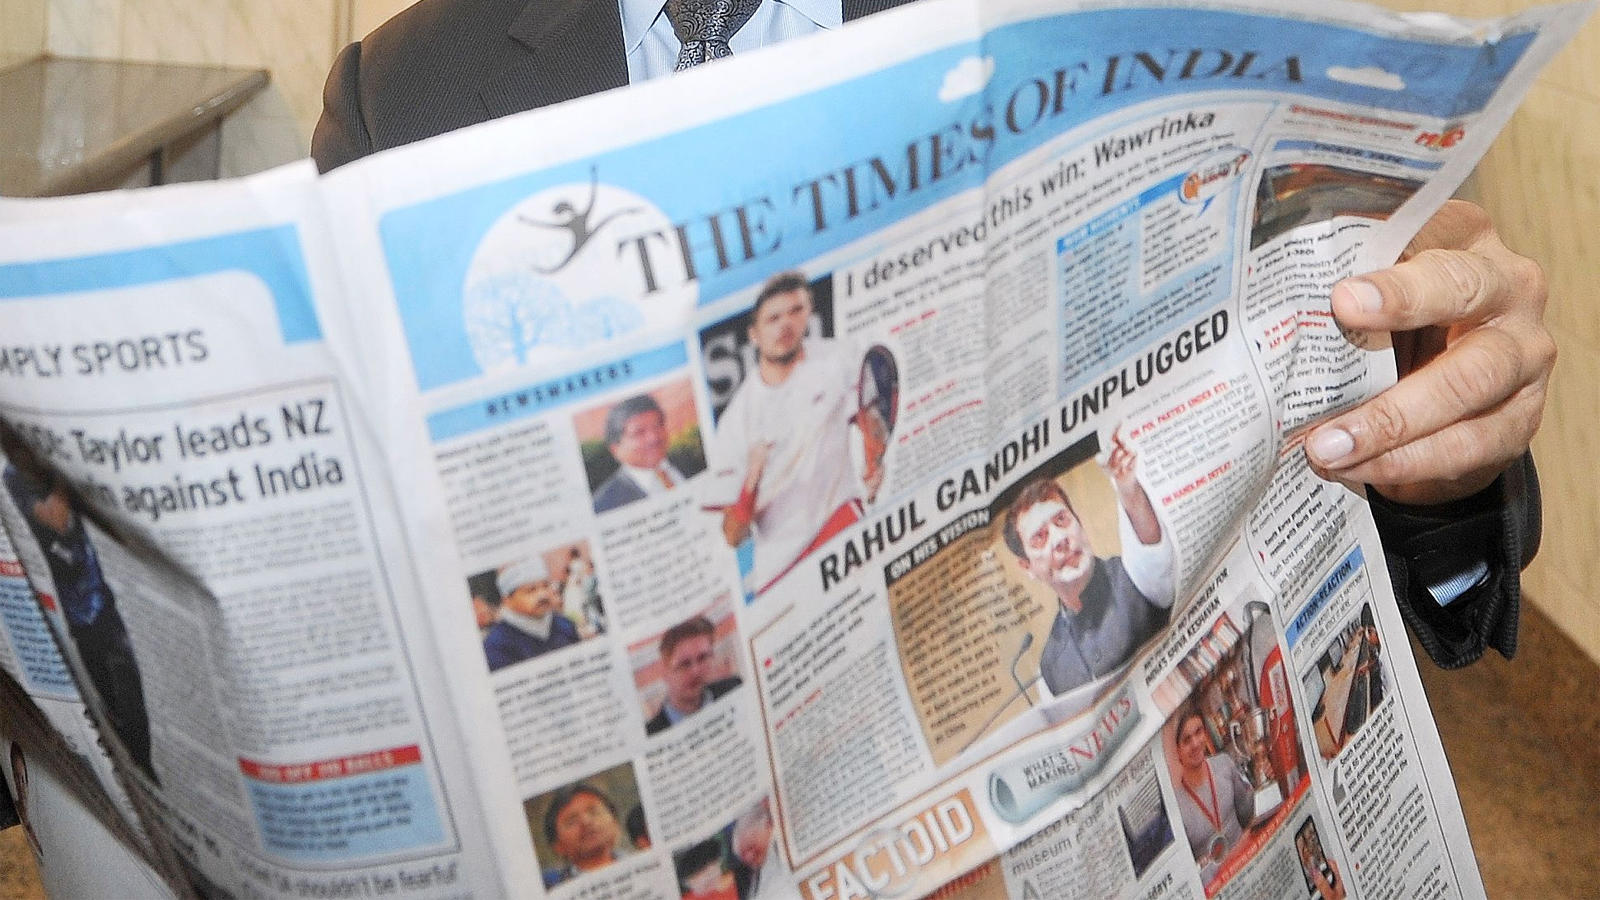news_paper: (2, 1, 1527, 900)
